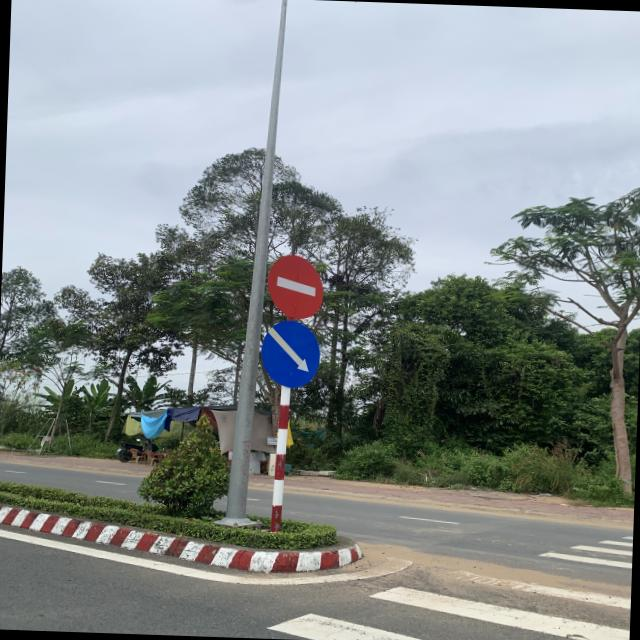Cam_Di_Nguoc_Chieu: (266, 253, 324, 320)
Chi_Huong_Di_Phai: (260, 320, 322, 389)
